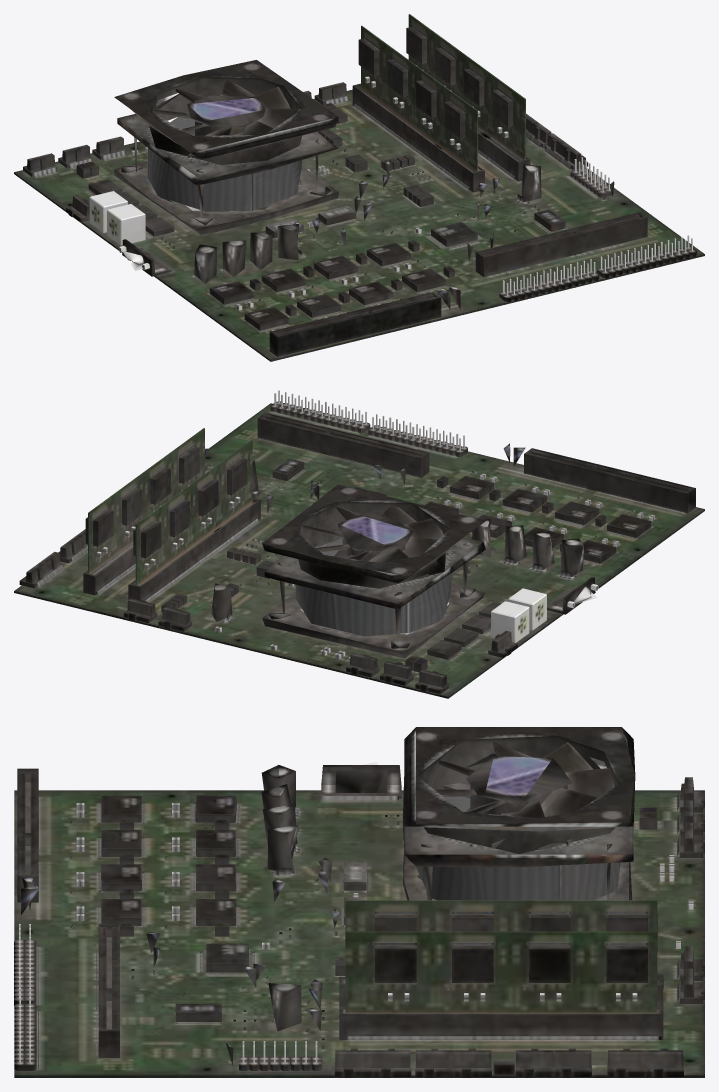
Rendered from circuit_board.glb.
The picture shows the model from 3 angles, top to bottom: view 1: azimuth 30°, elevation 25°; view 2: azimuth 150°, elevation 25°; view 3: azimuth 270°, elevation 25°; orthographic projection. The views are drawn at different scales.
Visible parts, largest first — view 1: circuit_board; view 2: circuit_board; view 3: circuit_board.
Boxes of the visible parts, x1,y1,x2,y2 form: circuit_board: (14, 14, 704, 361); circuit_board: (14, 390, 704, 698); circuit_board: (14, 727, 704, 1077).
Bounding box in the file's own units: 0.4035 × 0.0765 × 0.3974.
Materials: 2 (2 with a texture image).
